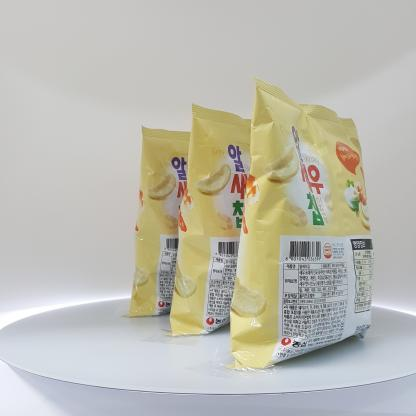Plastic Packaging: (224, 75, 376, 370), (170, 102, 248, 340), (126, 122, 192, 324)
